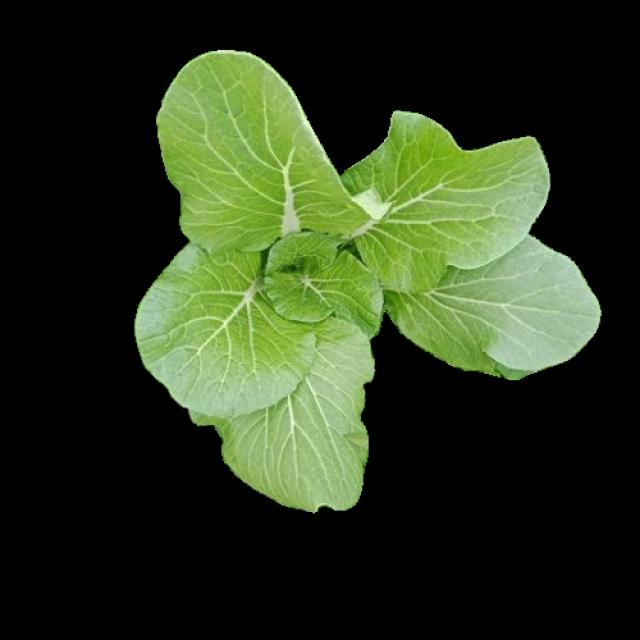healthy: (136, 48, 595, 508)
mature: (138, 50, 598, 511)
